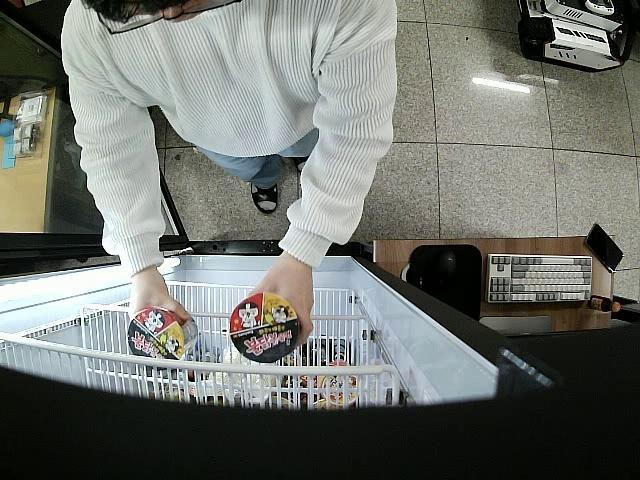08_buldak_S: (228, 295, 300, 361), (128, 306, 200, 361)
